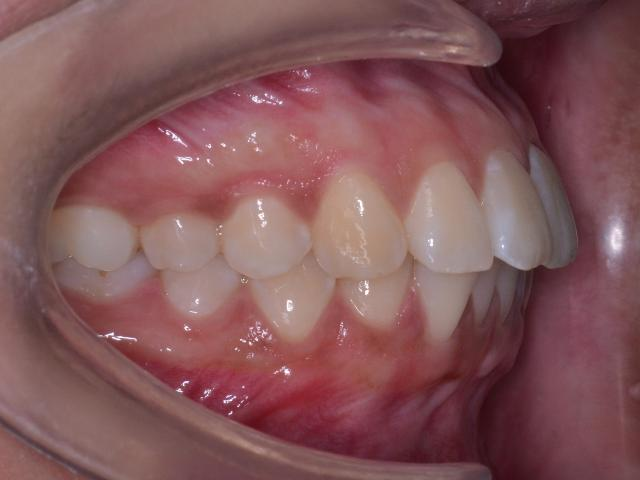canine class II 1/4: (246, 155, 414, 351)
molar class I: (36, 203, 152, 317)
